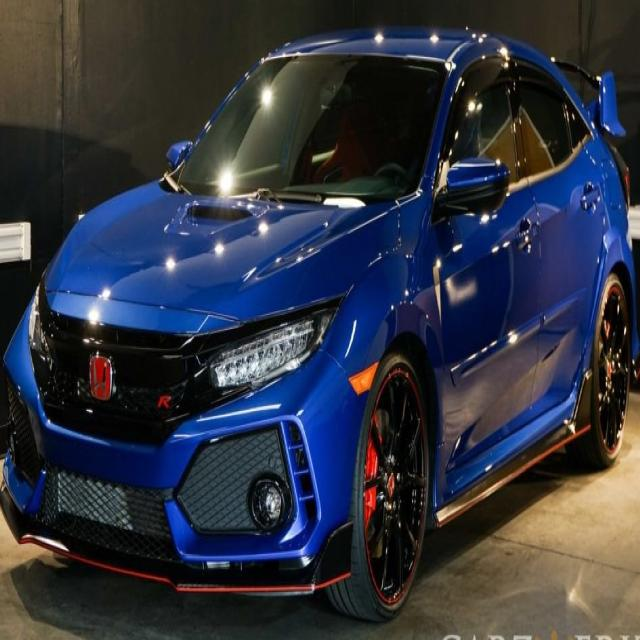blue: (3, 28, 640, 619)
